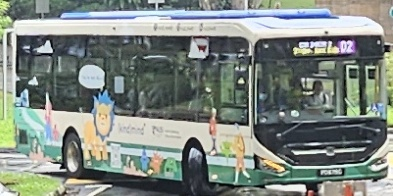bus: (337, 39, 356, 54)
